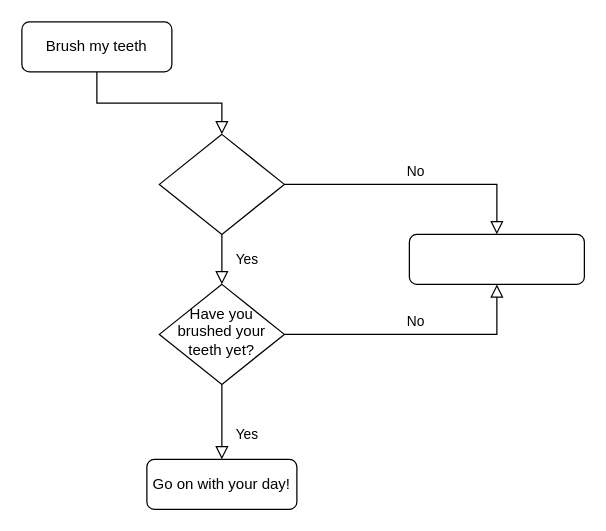
This 606x531 diagram has some shape labels left out. The box of each missing label's shape, as (x1, y1, x2, y2) in pixels:
Brush Teeth: (408, 233, 584, 284)
is my teeth dirty?: (158, 133, 284, 234)
